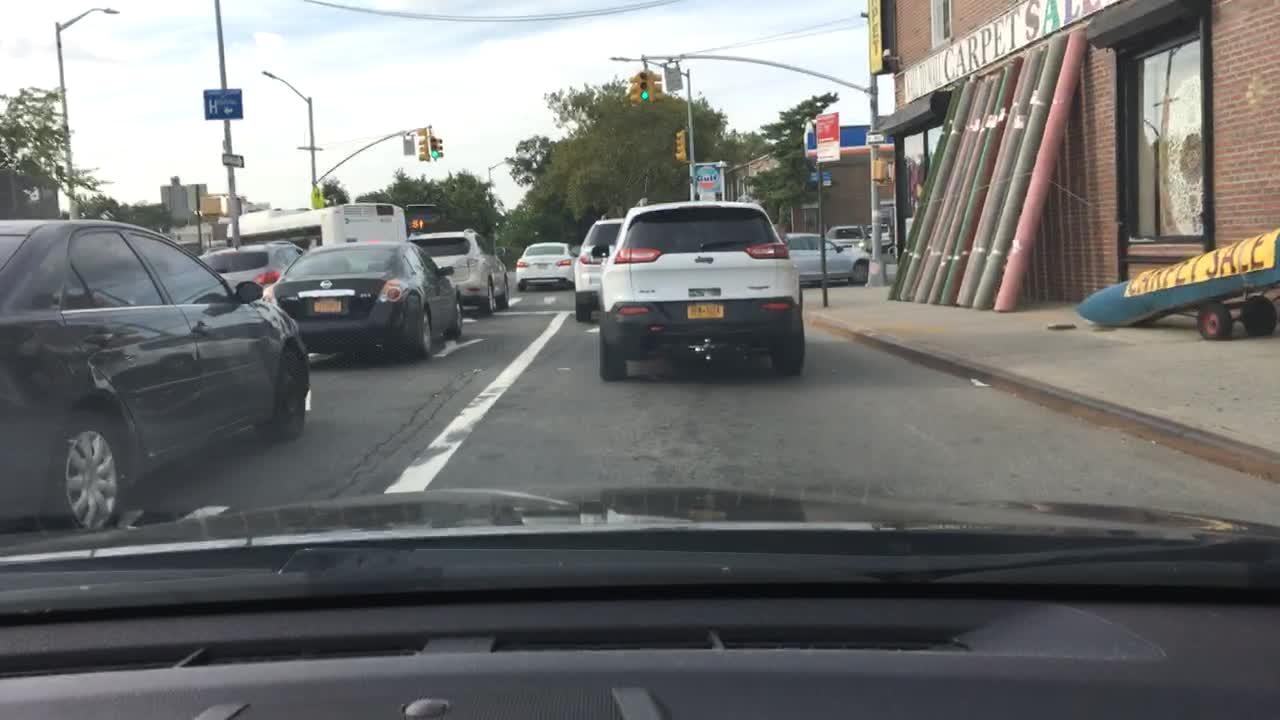jeep: (689, 252, 720, 271)
